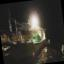fishing boat: (2, 0, 51, 63)
